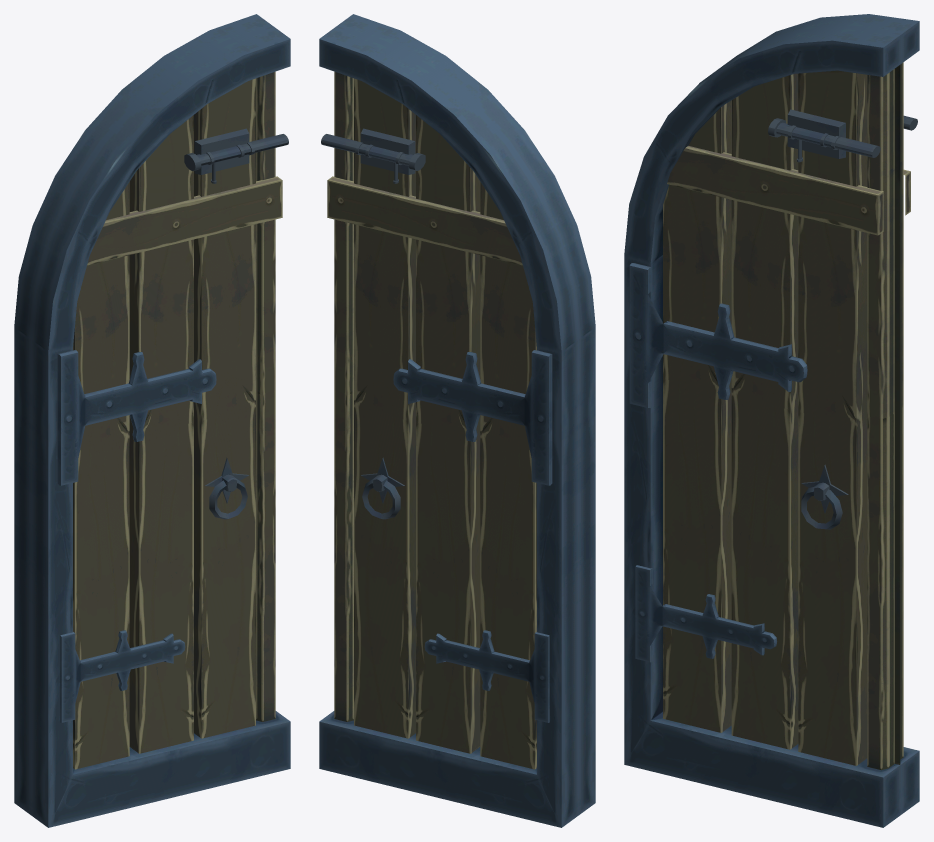
The model's file is SM_Tavern_Door_02.gltf.
The picture shows the model from 3 angles, left to right: view 1: azimuth 30°, elevation 25°; view 2: azimuth 150°, elevation 25°; view 3: azimuth 330°, elevation 25°; orthographic projection. The views are drawn at different scales.
Parts seen in each view (by area): view 1: SM_Tavern_Door_02; view 2: SM_Tavern_Door_02; view 3: SM_Tavern_Door_02.
Part boxes in pixels (left/top/right/bottom): SM_Tavern_Door_02: left=14, top=14, right=290, bottom=827; SM_Tavern_Door_02: left=319, top=14, right=595, bottom=827; SM_Tavern_Door_02: left=624, top=14, right=919, bottom=827.
Bounding box in the file's own units: 1 × 2.88 × 0.3352.
Materials: 1 (1 with a texture image).
